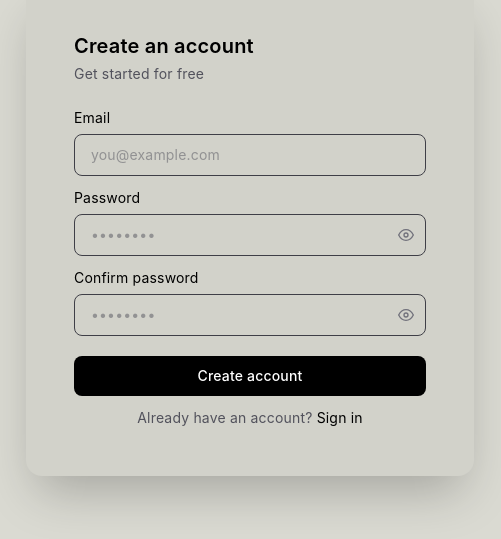
Scenario: RegisterForm › Validation › shows error when passwords do not match
The image size is (501, 539).
Type "user@example.com" into the field with placeholder "you@example.com". click: (250, 155)
box: 74,134 -> 426,176
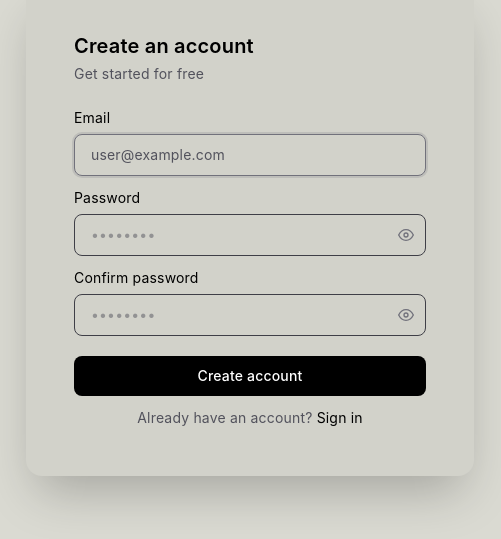
Type "securepassword" into the password field with placeholder "••••••••". click: (250, 235)
box: 74,214 -> 426,256
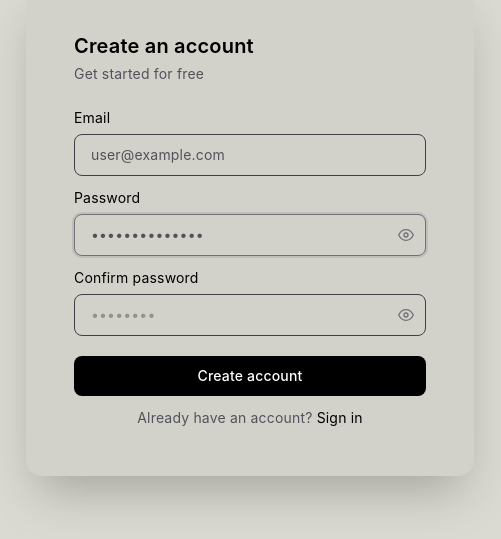
Type "differentpassword" into the password field with placeholder "••••••••". click: (250, 315)
box: 74,294 -> 426,336
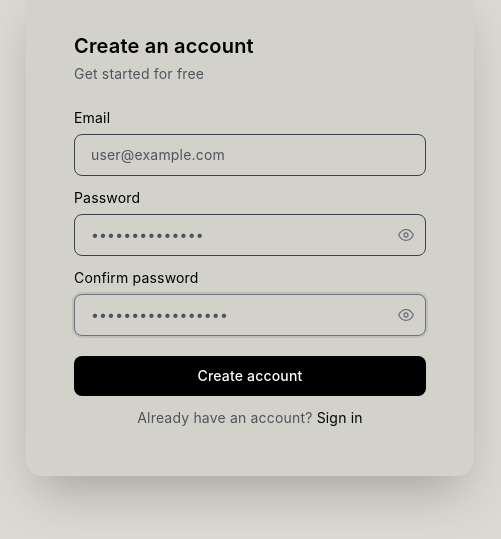
Click the button "Create account". click: (250, 376)
box: 74,356 -> 426,396
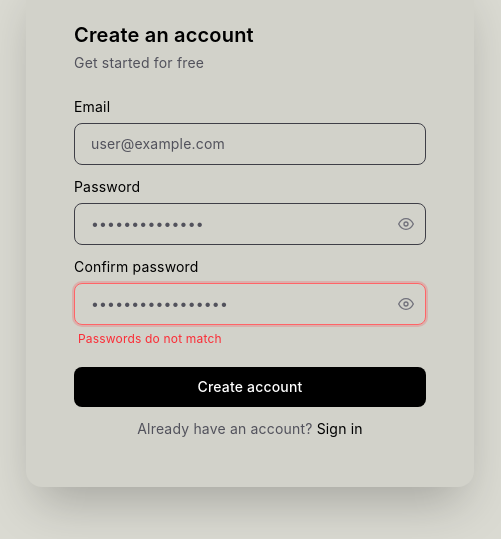
expect the text "Passwords do not match" is shown: met, box 78,331 -> 222,346
